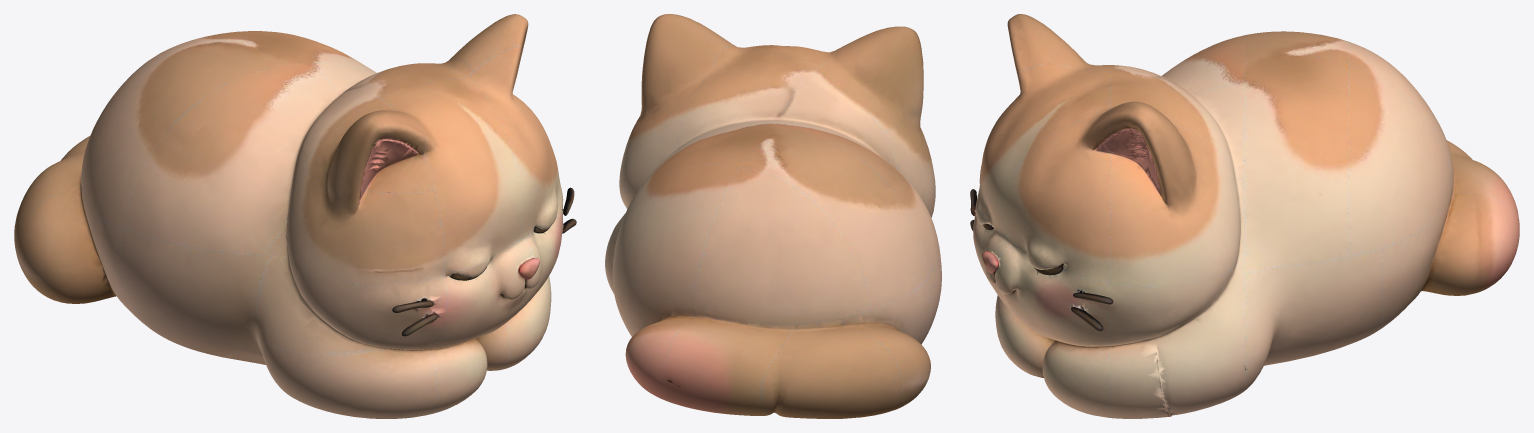
File: model-mobile-v001.glb
3 renders of one model, left to right at view 1: azimuth 30°, elevation 25°; view 2: azimuth 150°, elevation 25°; view 3: azimuth 270°, elevation 25°, orthographic. The views are drawn at different scales.
Visible parts, largest first — view 1: tmpj6lcakz0obj; view 2: tmpj6lcakz0obj; view 3: tmpj6lcakz0obj.
Boxes of the visible parts, x1,y1,x2,y2 form: tmpj6lcakz0obj: (14, 14, 576, 418); tmpj6lcakz0obj: (605, 14, 941, 418); tmpj6lcakz0obj: (970, 14, 1519, 418).
Bounding box in the file's own units: 0.9075 × 0.6515 × 0.9998.
1 material, 1 textured.
